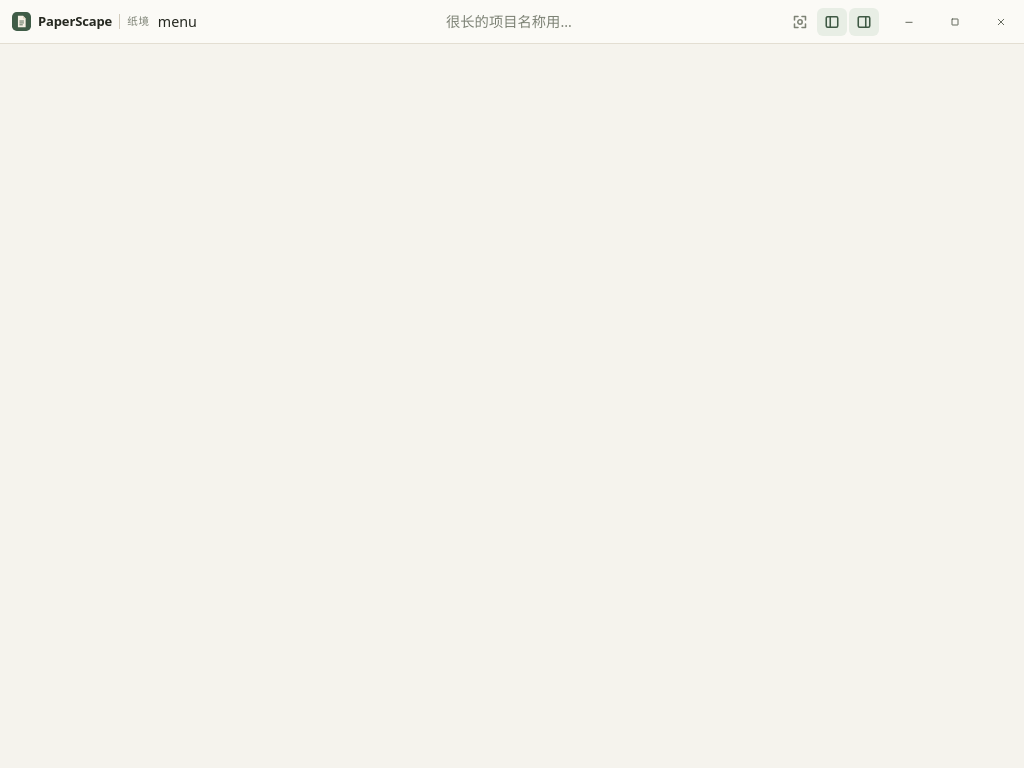
Test: TitleBar › shows the current item at the top and reveals its real path on click
Click the button "很长的项目名称用于检查省略" at (512, 22), box [437,10,587,33]
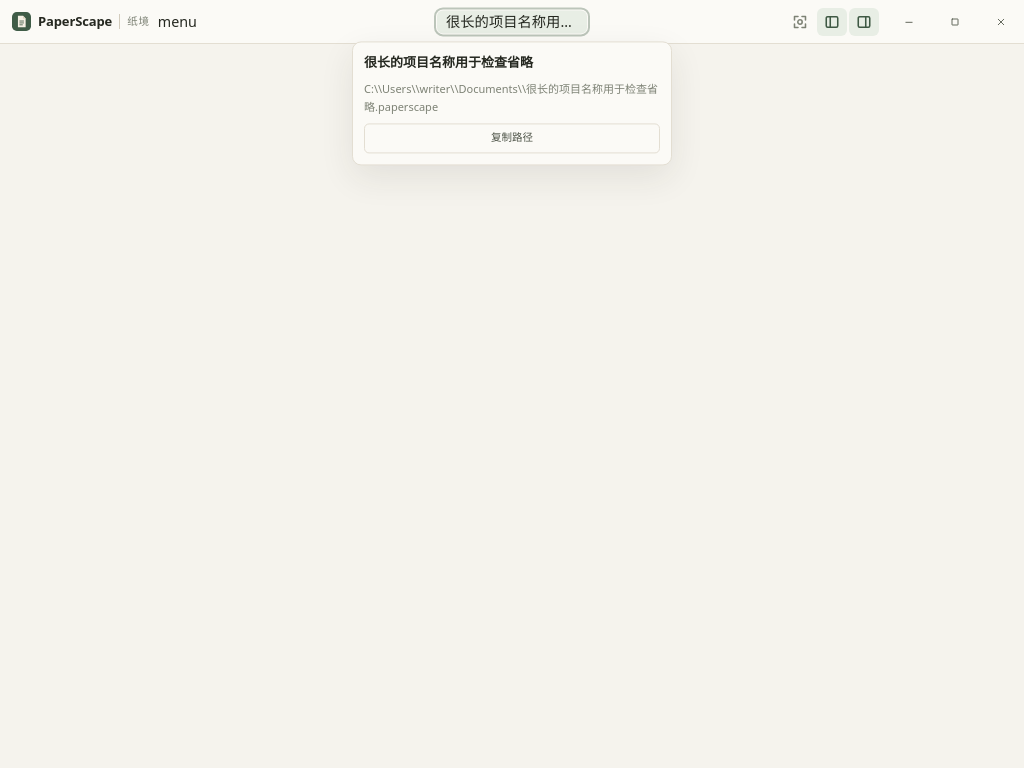
Check: the dialog named "当前文稿信息" is shown, box [352,41,672,166]
Check: the text "C:\\\\Users\\\\writer\\\\Documents\\\\很长的项目名称用于检查省略.paperscape" is shown, box [364,81,660,116]
